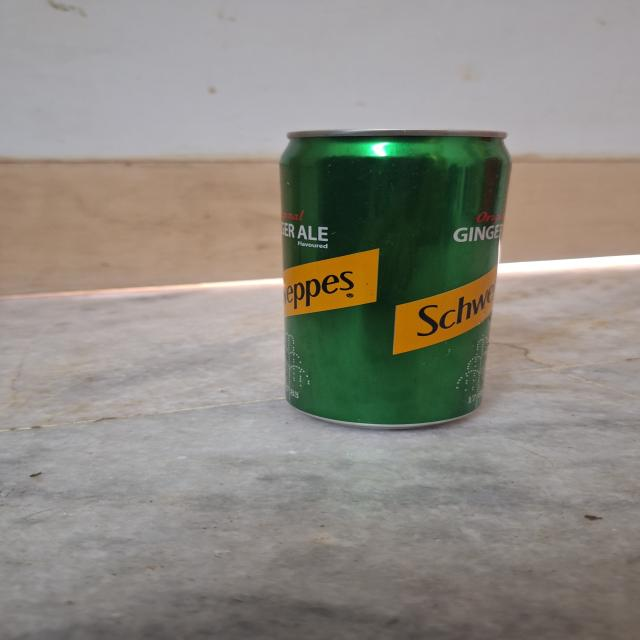Schweppes: (274, 123, 530, 432)
